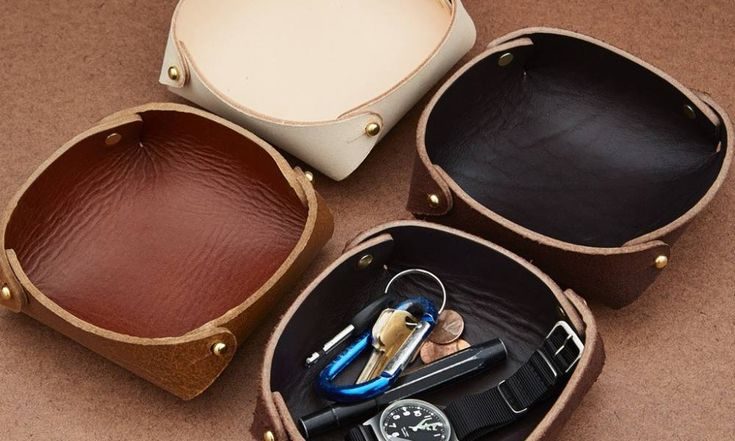cuero: (5, 1, 735, 441)
